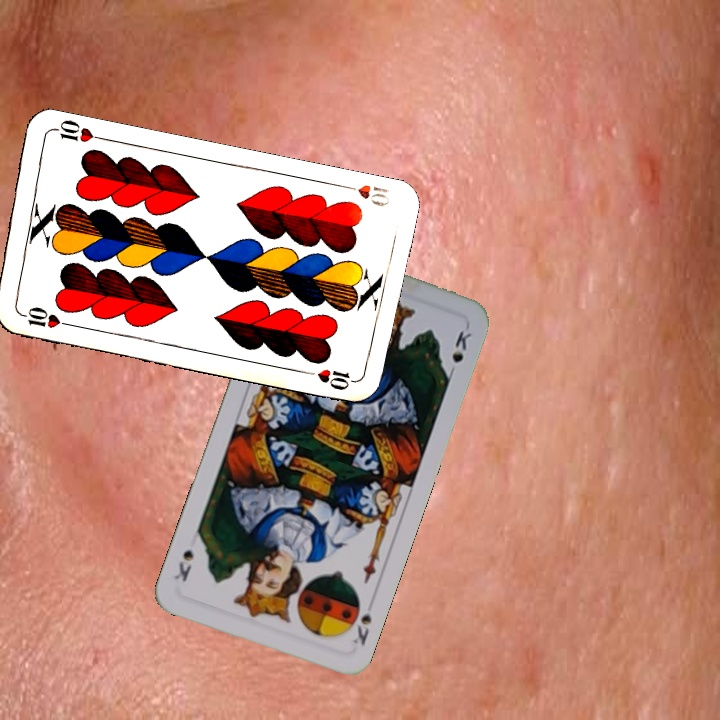H10: (336, 180, 393, 210), (14, 303, 73, 331)
SK: (349, 610, 375, 648)
